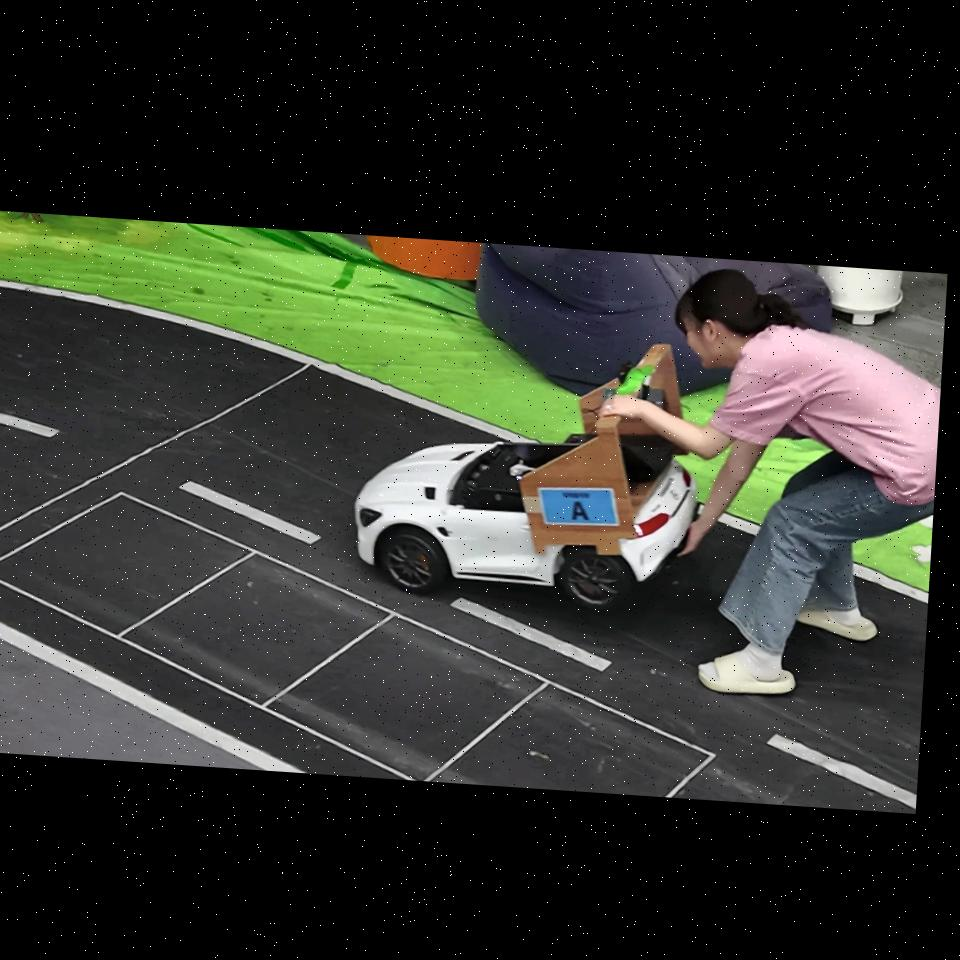broken_line: (451, 598, 611, 671), (767, 735, 916, 809), (180, 481, 321, 544), (0, 412, 59, 437)
